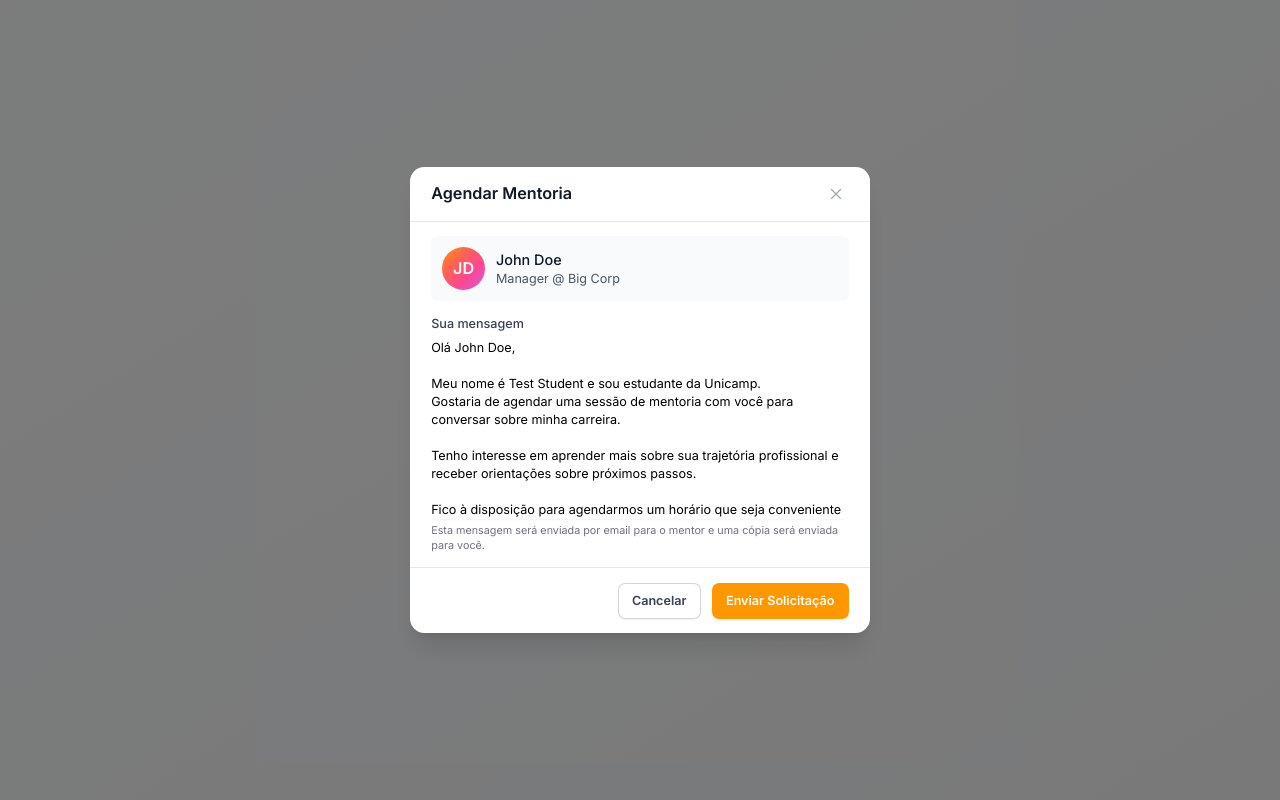
Test: BookingModal › validation › shows error when mentor email is missing
What coordinates should you click on to do the following:
click the button "Enviar Solicitação"
I would click on:
 (780, 601)
Its box is [712, 583, 849, 619].
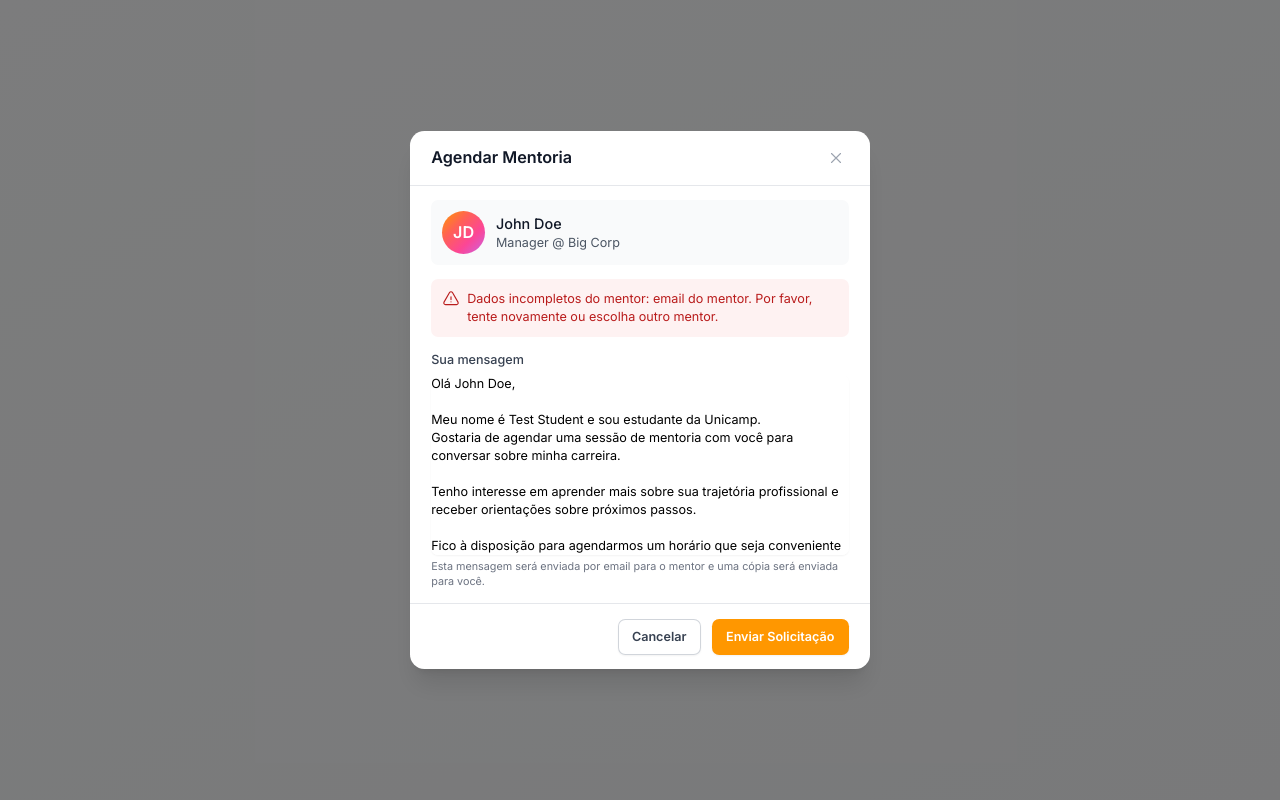
Now the text "email do mentor" is shown, box [467, 291, 812, 324]
